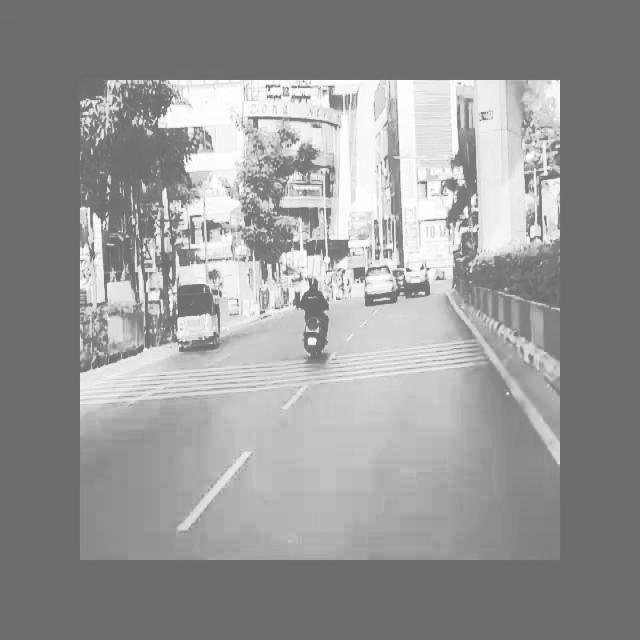Auto-Rickshaw: (170, 279, 226, 356)
Bike: (298, 281, 332, 362)
Car: (360, 258, 402, 310), (402, 248, 429, 294)
